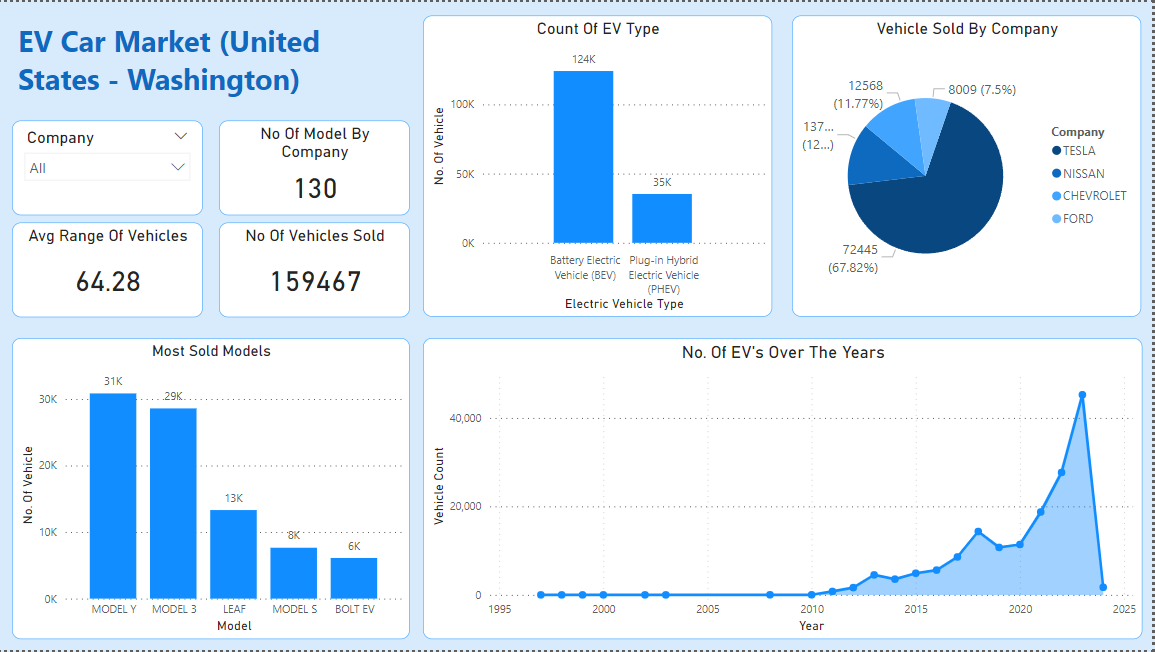

What the dashboard file says about the page in this screenshot:
{"tool":"powerbi","page":{"name":"Page 1","canvas":[1280,720],"ordinal":0},"visuals":[{"type":"pieChart","title":"Vehicle Sold By Company","fields":{"Category":["Electric_Vehicle_Population_Data.Make"],"Y":["CountNonNull(Electric_Vehicle_Population_Data.Make)"]},"box":[880.2,14.6,388.3,334.9],"z":0},{"type":"areaChart","title":"No. Of EV''s Over The Years","fields":{"Category":["Electric_Vehicle_Population_Data.Model Year"],"Y":["CountNonNull(Electric_Vehicle_Population_Data.Model)"]},"box":[469.2,373.8,799.3,334.9],"z":1000},{"type":"clusteredColumnChart","title":"Count Of EV Type","fields":{"Y":["CountNonNull(Electric_Vehicle_Population_Data.Model)"],"Category":["Electric_Vehicle_Population_Data.Electric Vehicle Type"]},"box":[469.2,14.6,388.3,334.9],"z":2000},{"type":"card","title":"Avg Range Of Vehicles","fields":{"Values":["Avg(Electric_Vehicle_Population_Data.Electric Range)"]},"box":[12.9,244.3,212,105.2],"z":3000},{"type":"card","title":"No Of Model By Company","fields":{"Values":["Count(Electric_Vehicle_Population_Data.Model)"]},"box":[242.7,131.1,212,105.2],"z":4000},{"type":"clusteredColumnChart","title":"Count Of EV Type","fields":{"Y":["CountNonNull(Electric_Vehicle_Population_Data.Model)"],"Category":["Electric_Vehicle_Population_Data.Electric Vehicle Type"]},"box":[12.9,373.8,441.7,334.9],"z":5000},{"type":"slicer","fields":{"Values":["Electric_Vehicle_Population_Data.Make"]},"box":[12.9,131.1,212,105.2],"z":6000},{"type":"card","title":"No Of Vehicles Sold","fields":{"Values":["CountNonNull(Electric_Vehicle_Population_Data.Model)"]},"box":[242.7,244.3,212,105.2],"z":8000},{"type":"textbox","box":[14.6,14.6,440.1,97.1],"z":9000}]}

Visuals, with their boxes in screenshot pixels (x1, y1, x2, y2), scaled from the page's 1280x720 canvas onto the 1155x652 screenshot:
"Vehicle Sold By Company" pieChart: pyautogui.locateOnScreen(794, 13, 1145, 316)
"No. Of EV''s Over The Years" areaChart: pyautogui.locateOnScreen(423, 338, 1145, 642)
"Count Of EV Type" clusteredColumnChart: pyautogui.locateOnScreen(423, 13, 774, 316)
"Avg Range Of Vehicles" card: pyautogui.locateOnScreen(12, 221, 203, 316)
"No Of Model By Company" card: pyautogui.locateOnScreen(219, 119, 410, 214)
"Count Of EV Type" clusteredColumnChart: pyautogui.locateOnScreen(12, 338, 410, 642)
slicer - Electric_Vehicle_Population_Data.Make: pyautogui.locateOnScreen(12, 119, 203, 214)
"No Of Vehicles Sold" card: pyautogui.locateOnScreen(219, 221, 410, 316)
textbox: pyautogui.locateOnScreen(13, 13, 410, 101)
